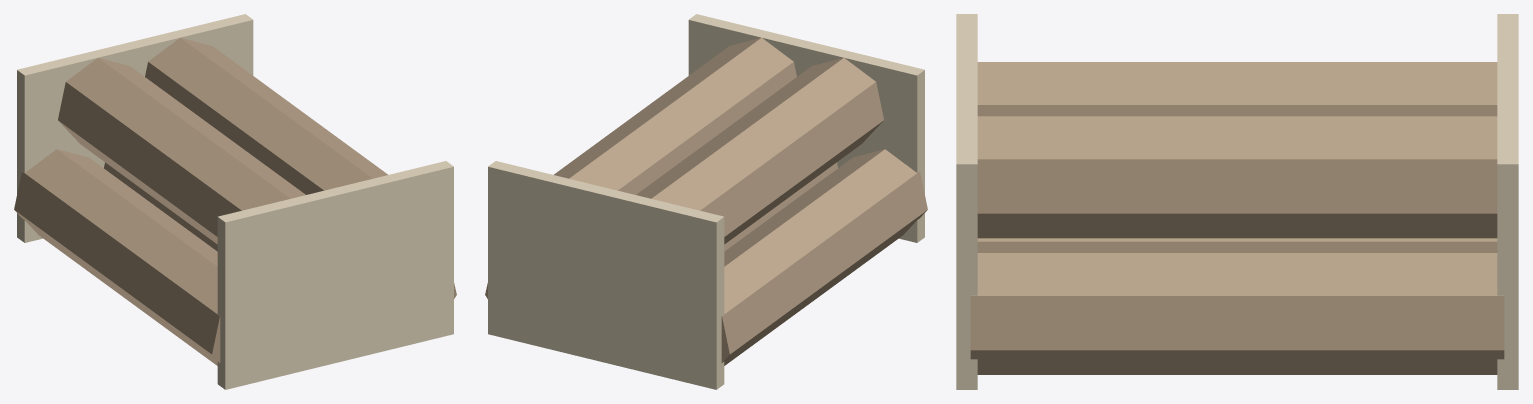
File: prop_log_stack.glb
3 views of the same model, side by side, from view 1: azimuth 30°, elevation 25°; view 2: azimuth 150°, elevation 25°; view 3: azimuth 270°, elevation 25° (orthographic). The views are drawn at different scales.
Visible parts, largest first — view 1: prop_log_stack; view 2: prop_log_stack; view 3: prop_log_stack.
Boxes of the visible parts, x1,y1,x2,y2 form: prop_log_stack: [14, 14, 456, 389]; prop_log_stack: [485, 14, 927, 389]; prop_log_stack: [956, 14, 1518, 389].
Bounding box in the file's own units: 0.1071 × 0.07 × 0.158.
